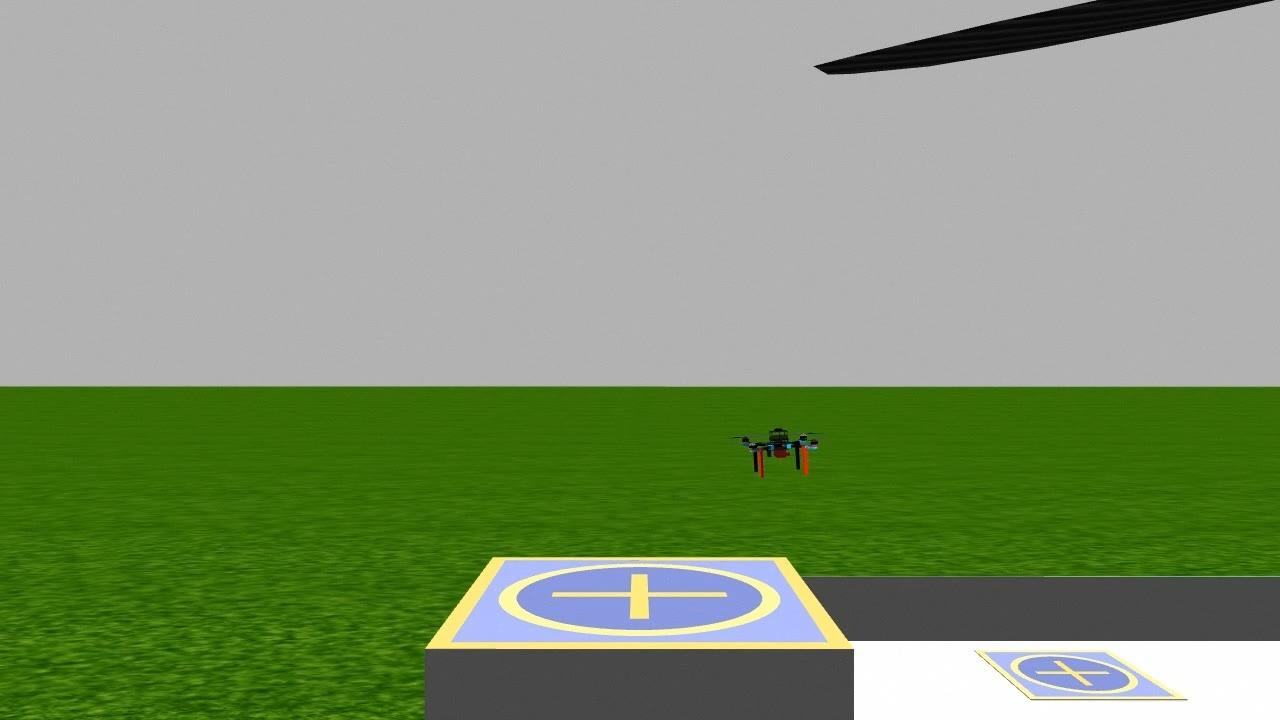UAV: (718, 413, 841, 485)
